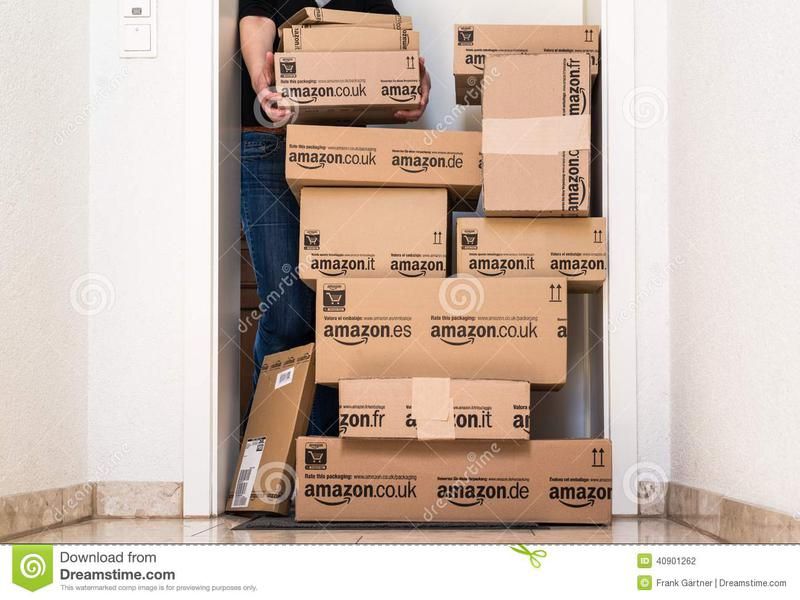package: (292, 433, 619, 527), (308, 275, 574, 386), (476, 51, 602, 217), (279, 118, 484, 197), (229, 339, 313, 520), (293, 184, 451, 280), (336, 379, 535, 443), (452, 212, 608, 292), (449, 18, 603, 92), (271, 51, 426, 115), (276, 24, 421, 53)
